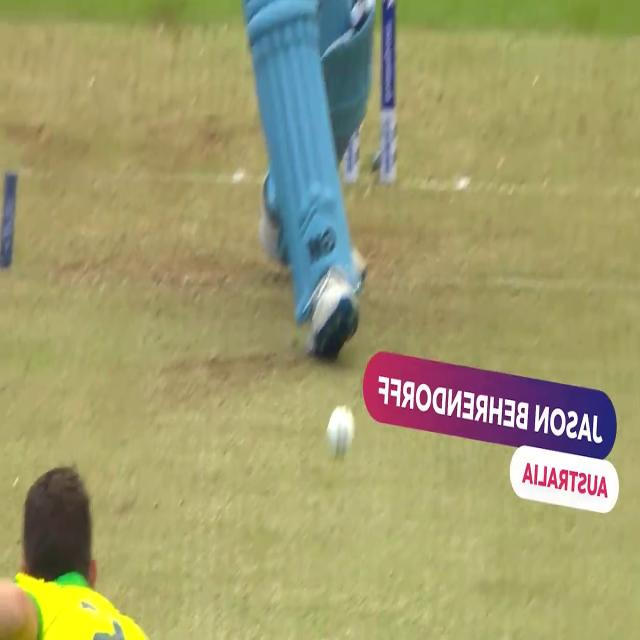ball: (324, 398, 360, 462)
